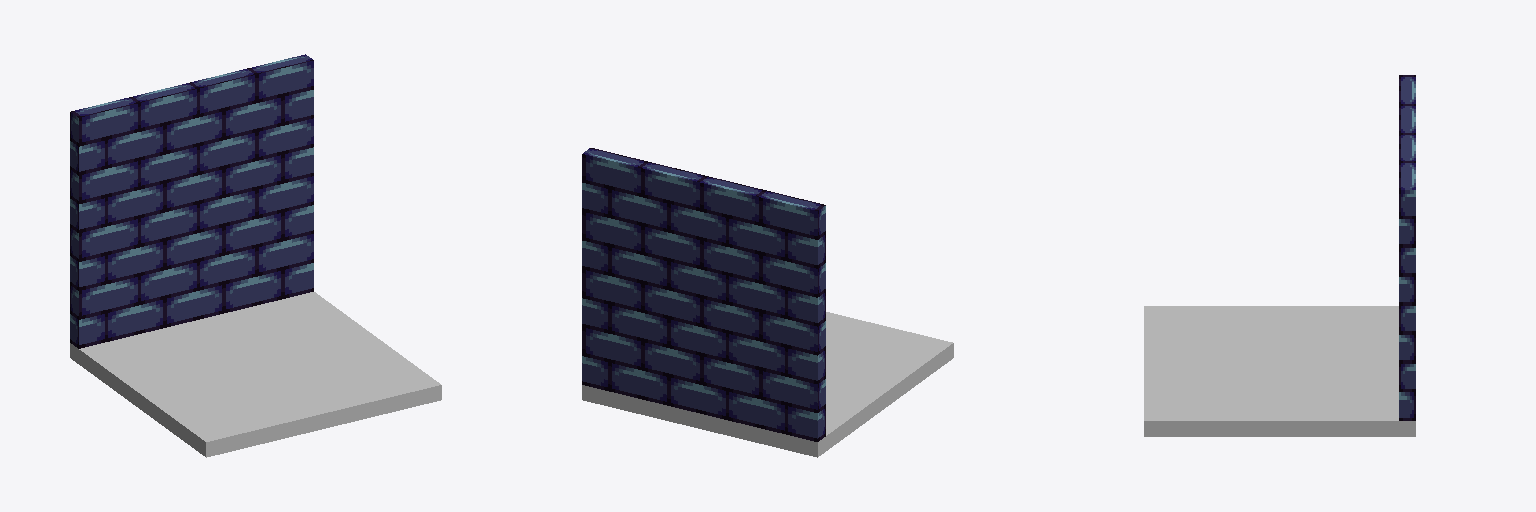
3 views of the same model, side by side, from view 1: azimuth 30°, elevation 25°; view 2: azimuth 150°, elevation 25°; view 3: azimuth 270°, elevation 25° (orthographic).
Parts seen in each view (by area): view 1: wall, floor; view 2: wall, floor; view 3: floor, wall.
Part boxes in pixels (left/top/right/bottom): wall: left=70, top=54, right=313, bottom=348; floor: left=70, top=292, right=441, bottom=457; wall: left=582, top=148, right=825, bottom=441; floor: left=582, top=312, right=953, bottom=457; floor: left=1144, top=306, right=1415, bottom=436; wall: left=1399, top=75, right=1415, bottom=420.
Bounding box in the file's own units: 16 × 16 × 16.
Materials: 2 (1 with a texture image).